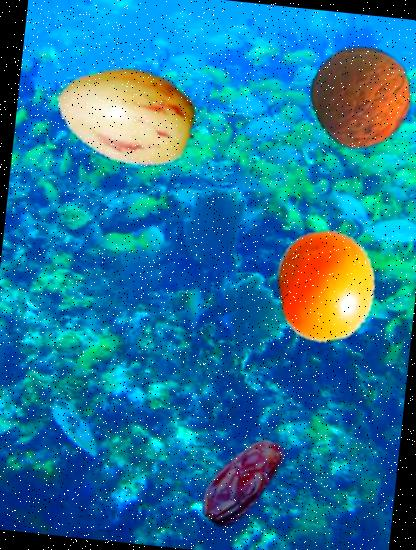Cherry: (264, 224, 389, 349)
Dates: (186, 424, 298, 538)
Pepino: (46, 36, 204, 194)
Walnut: (306, 40, 416, 152)
